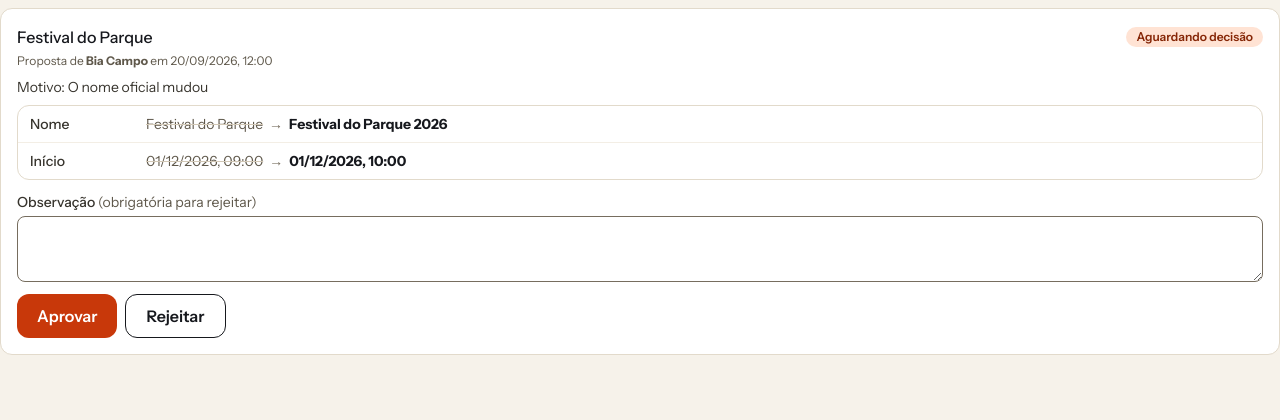
Test case: ApprovalInbox › aprovar › envia a decisão, avisa que foi aplicada e atualiza a lista
Type "Confere com o contrato" into the text box labelled "Observação (obrigatória para rejeitar)" at (640, 249), box [17,216,1263,282]
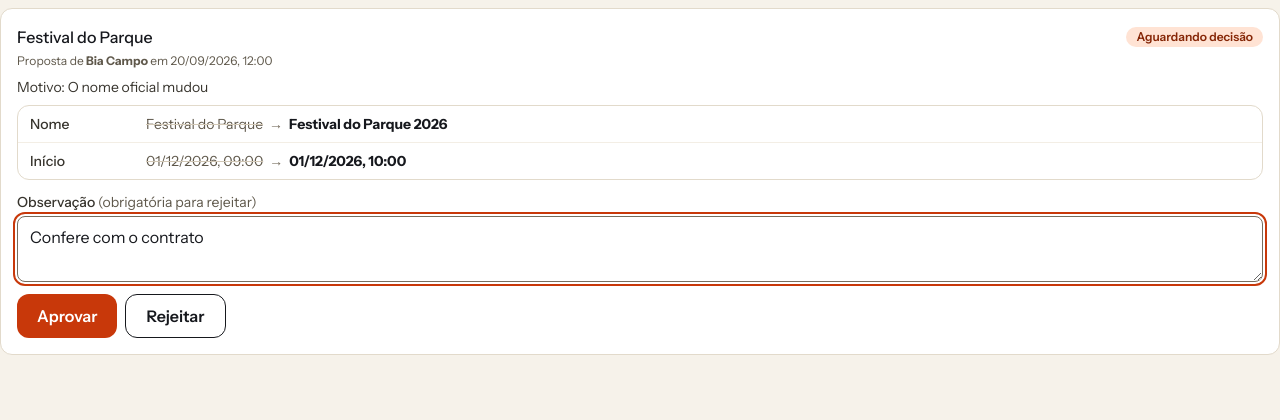
Click the button with aria-label "Aprovar a proposta" at (67, 316), box [17,294,118,338]
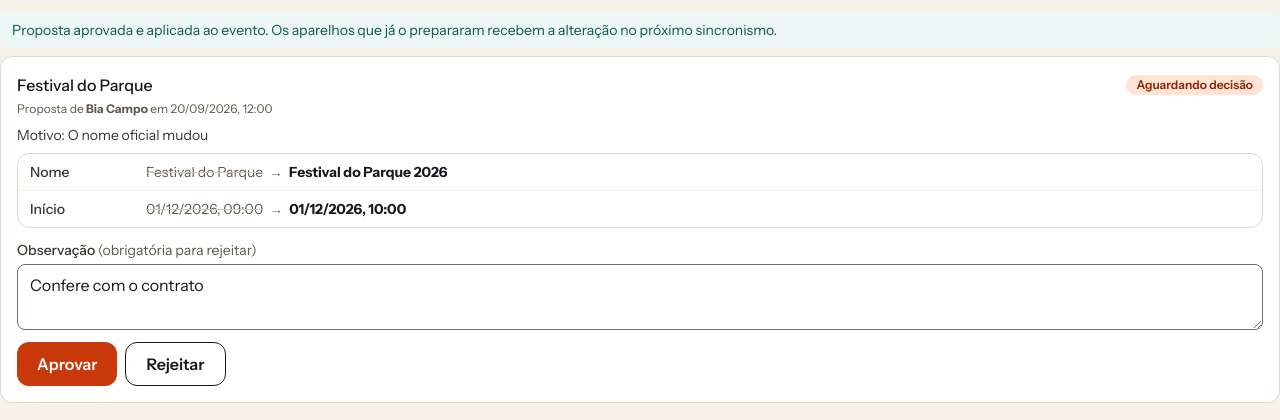
expect the message shows "aprovada e aplicada ao evento": met, box [12,21,777,39]
